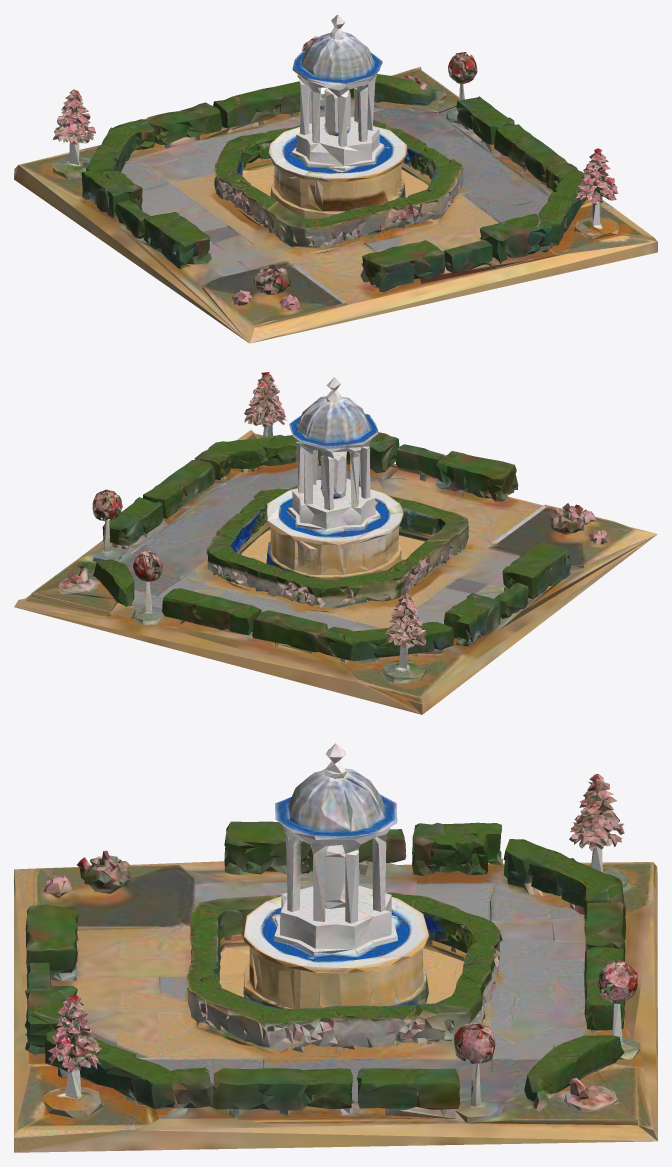
File: lm_city_gardens.glb
The picture shows the model from 3 angles, top to bottom: view 1: azimuth 30°, elevation 25°; view 2: azimuth 150°, elevation 25°; view 3: azimuth 270°, elevation 25°; orthographic projection. The views are drawn at different scales.
Bounding box in the file's own units: 1.9 × 0.896 × 1.9.
Materials: 1 (1 with a texture image).
